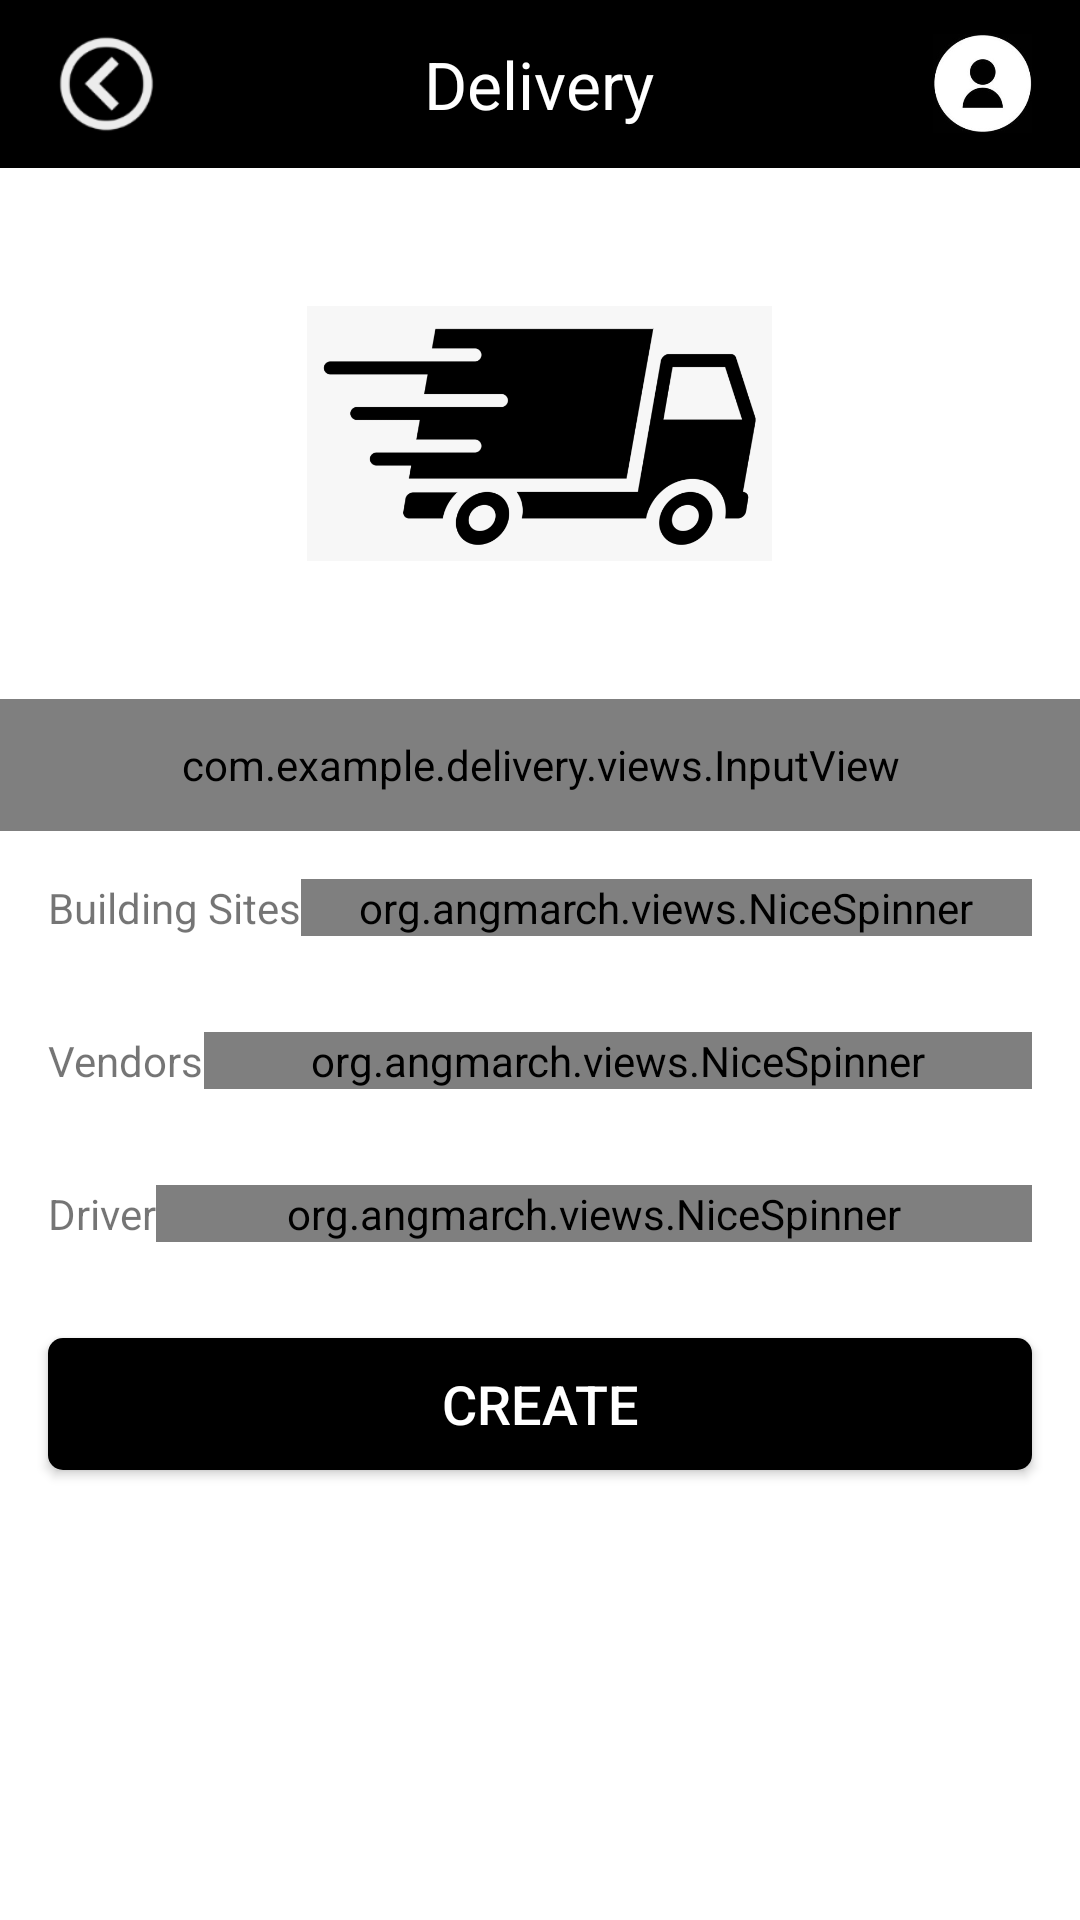

Screen size 1080px x 1920px. Icon name, then its box in pixels as (x1, y1, x2, y2):
account: (934, 35, 1031, 132)
back: (60, 37, 153, 131)
